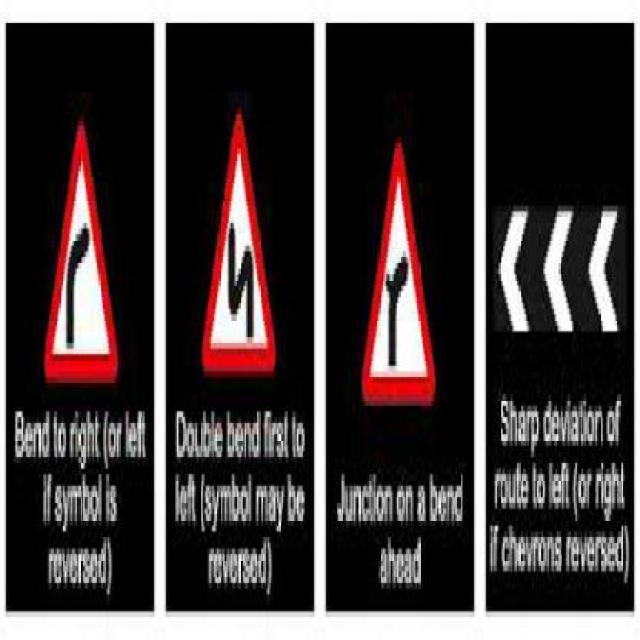warn_double_curve: (199, 103, 279, 389)
warn_right_curve: (41, 124, 125, 385)
